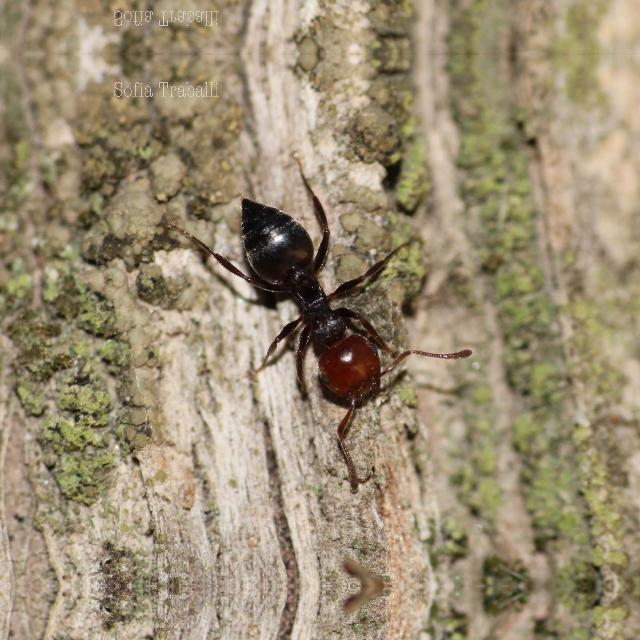Crematogaster: (202, 189, 396, 411)
